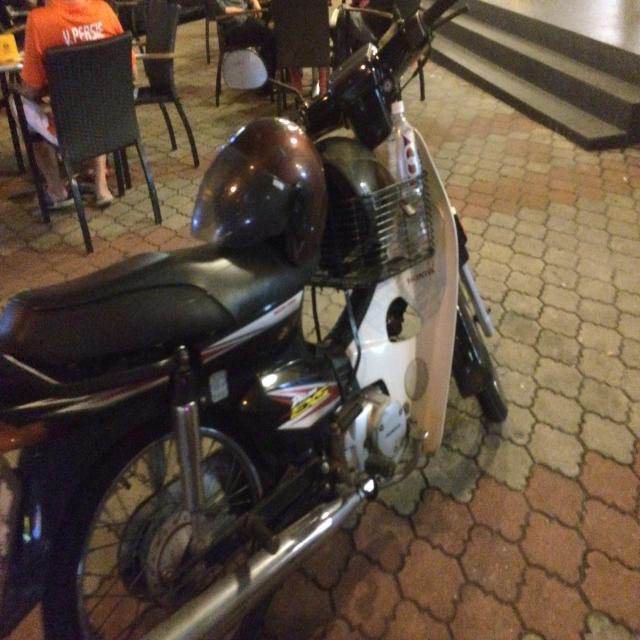Motorbike: (1, 0, 540, 638)
chair: (24, 31, 184, 249), (133, 3, 220, 181), (261, 2, 341, 132)
